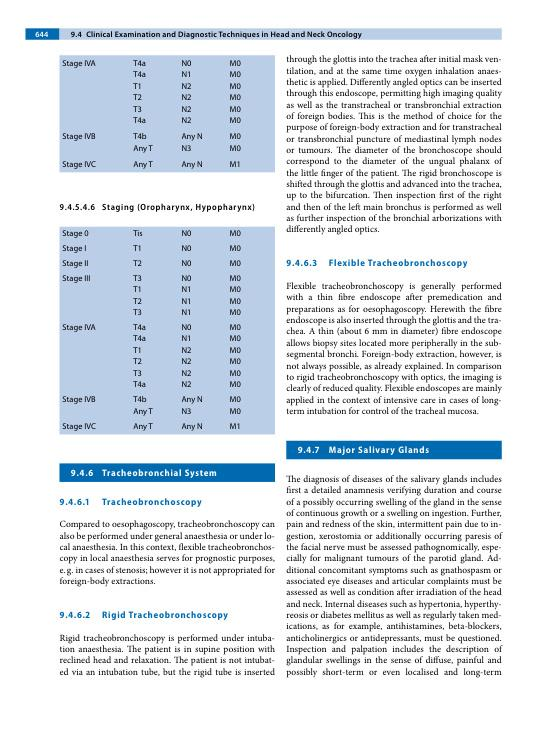caption: (100, 202, 255, 214)
header: (85, 29, 363, 40)
section-heading: (100, 467, 218, 479), (328, 445, 430, 456)
sub-section-heading: (328, 258, 469, 269), (101, 610, 229, 621), (101, 497, 203, 508)
table: (59, 226, 276, 435), (59, 53, 276, 173)
text: (284, 473, 504, 679), (284, 53, 504, 236), (285, 280, 503, 417), (58, 518, 276, 588), (58, 632, 277, 679)
